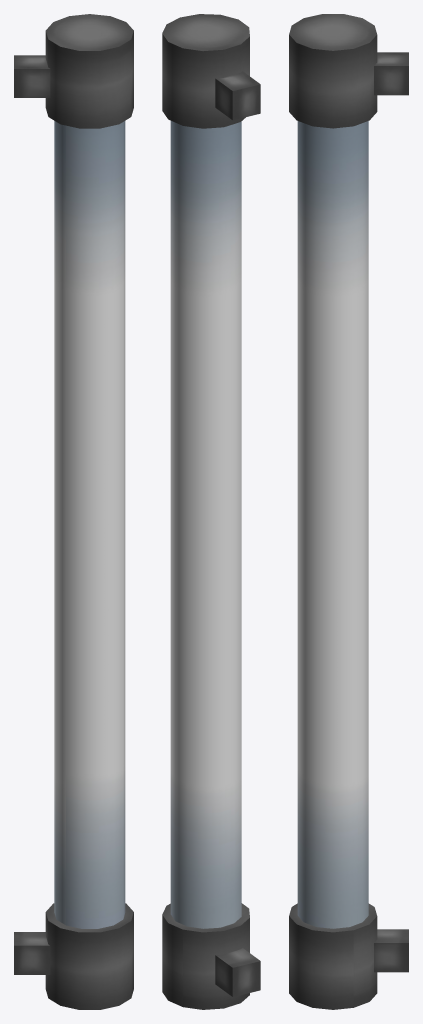
Rendered from neonlight_wall.fbx.
3 renders of one model, left to right at view 1: azimuth 90°, elevation 25°; view 2: azimuth 210°, elevation 25°; view 3: azimuth 270°, elevation 25°, orthographic.
Parts seen in each view (by area): view 1: pasted__pCylinder9; view 2: pasted__pCylinder9; view 3: pasted__pCylinder9.
Boxes of the visible parts, bbox=[...] form: pasted__pCylinder9: bbox=[14, 14, 133, 1009]; pasted__pCylinder9: bbox=[162, 14, 260, 1009]; pasted__pCylinder9: bbox=[289, 14, 408, 1009].
Size of the model in its own units: 20.59 by 249 by 28.2.
